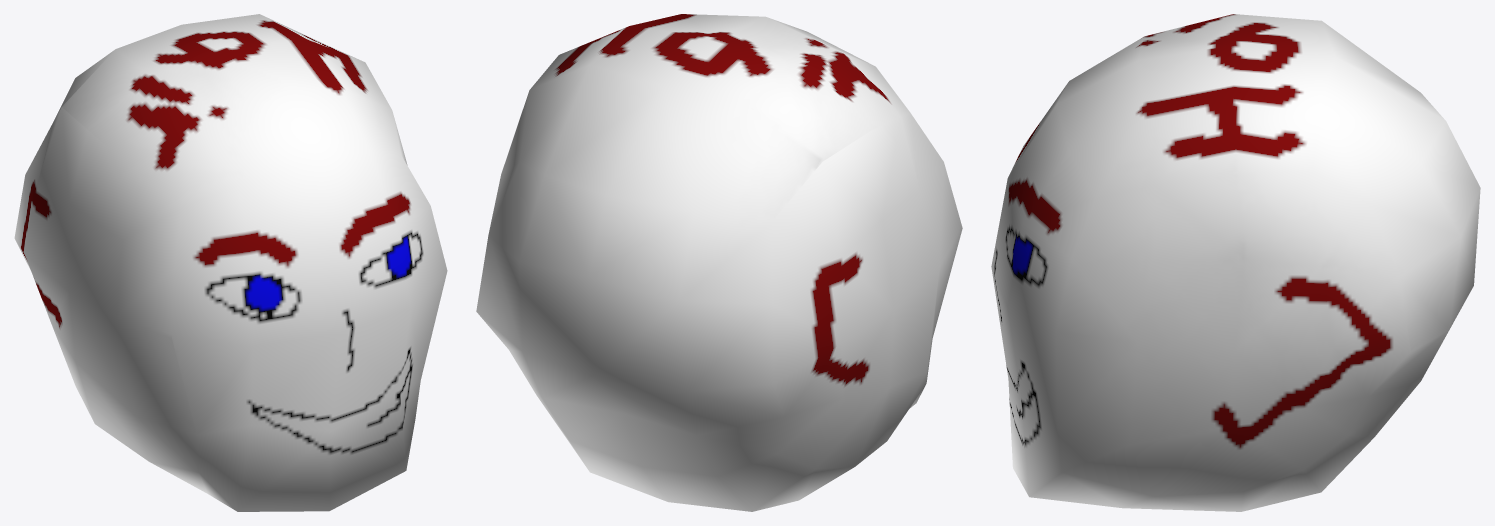
File: head.obj
The picture shows the model from 3 angles, left to right: view 1: azimuth 30°, elevation 25°; view 2: azimuth 150°, elevation 25°; view 3: azimuth 270°, elevation 25°; orthographic projection. The views are drawn at different scales.
Visible parts, largest first — view 1: Cube_Cube.001; view 2: Cube_Cube.001; view 3: Cube_Cube.001.
Part boxes in pixels (x1,y1,x2,y2): Cube_Cube.001: (14,14,447,511); Cube_Cube.001: (476,14,962,511); Cube_Cube.001: (991,14,1480,511).
Size of the model in its own units: 0.7191 by 0.8561 by 0.8822.
